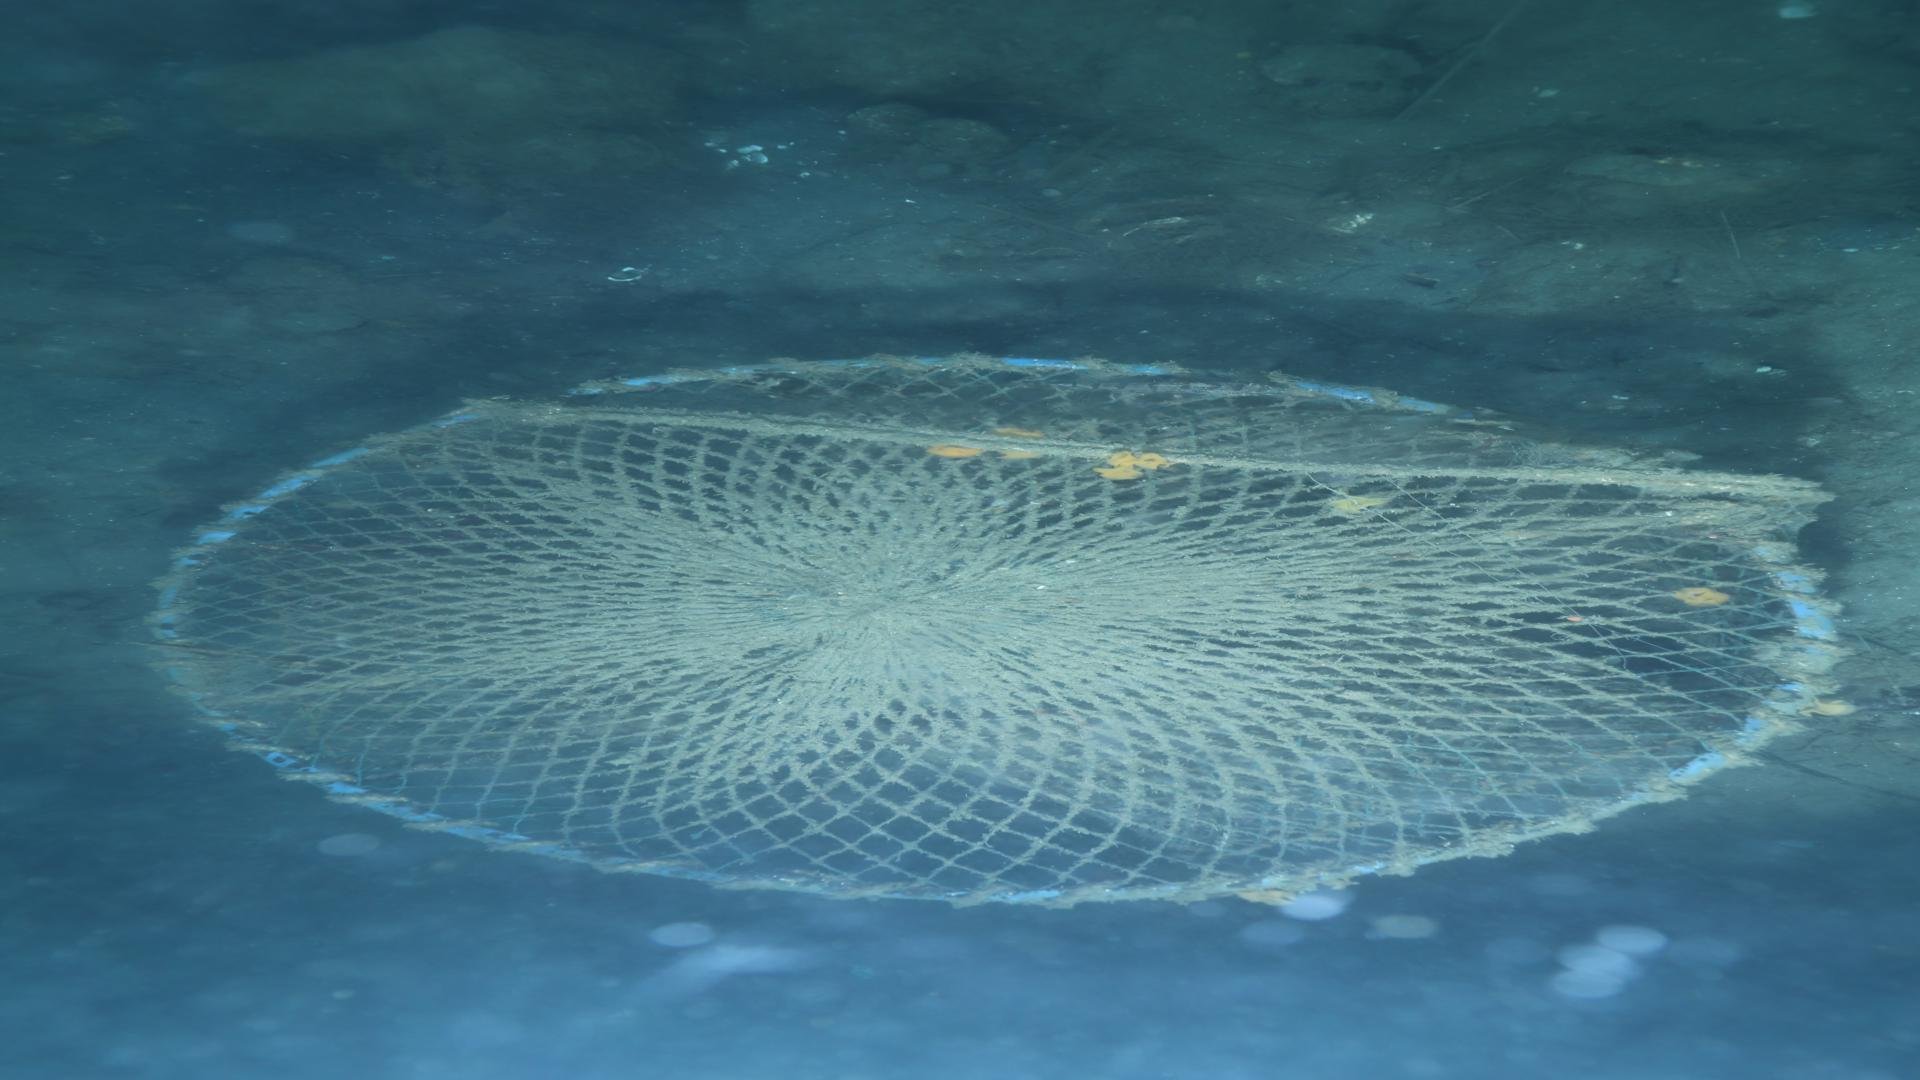circular fish trap: (152, 353, 1844, 906)
